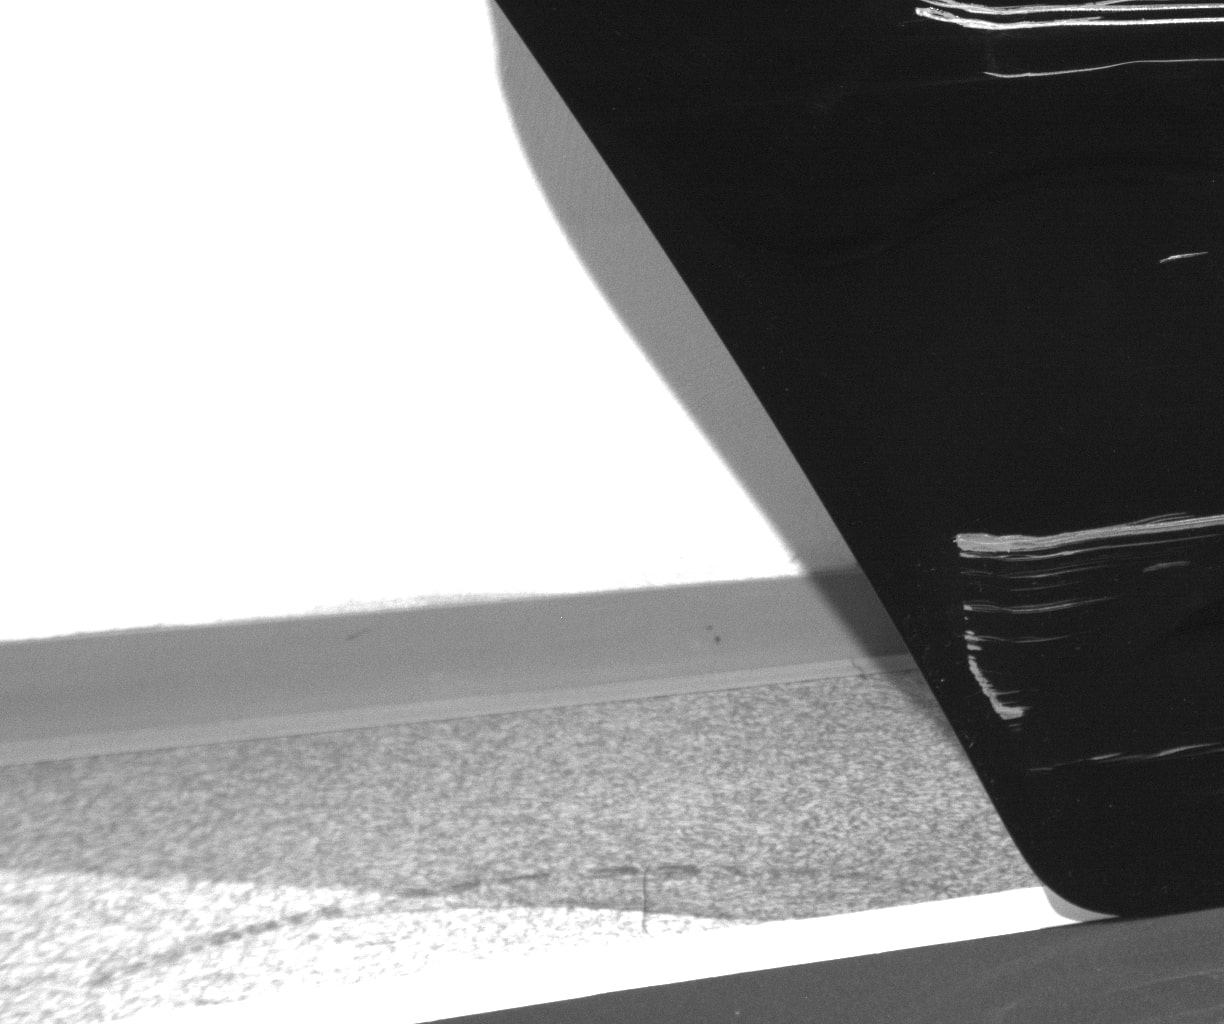scratch: (955, 511, 1224, 720), (914, 1, 1224, 79), (1030, 740, 1224, 772), (1158, 249, 1210, 264)
